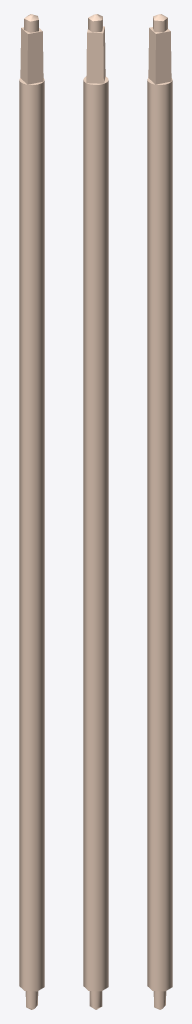
Rendered from Marteau - axe_Quart - H.obj.
3 views of the same model, side by side, from view 1: azimuth 90°, elevation 25°; view 2: azimuth 150°, elevation 25°; view 3: azimuth 270°, elevation 25° (orthographic).
Parts seen in each view (by area): view 1: Face_1, Face_8, Face_9, Face_3, Face_13; view 2: Face_1, Face_9, Face_3, Face_13, Face_8; view 3: Face_1, Face_10, Face_7, Face_3, Face_13.
Boxes of the visible parts, x1=… form: Face_1: x1=19, y1=80, x2=44, y2=991; Face_8: x1=27, y1=31, x2=43, y2=84; Face_9: x1=20, y1=28, x2=27, y2=84; Face_3: x1=25, y1=991, x2=38, y2=1008; Face_13: x1=24, y1=19, x2=38, y2=32; Face_1: x1=83, y1=80, x2=108, y2=991; Face_9: x1=86, y1=32, x2=103, y2=83; Face_3: x1=89, y1=991, x2=102, y2=1008; Face_13: x1=88, y1=17, x2=102, y2=32; Face_8: x1=103, y1=27, x2=105, y2=82; Face_1: x1=147, y1=80, x2=172, y2=991; Face_10: x1=155, y1=31, x2=171, y2=84; Face_7: x1=148, y1=28, x2=155, y2=84; Face_3: x1=153, y1=991, x2=166, y2=1008; Face_13: x1=153, y1=17, x2=167, y2=32.
Size of the model in its own units: 0.0055 by 0.2375 by 0.0055.
